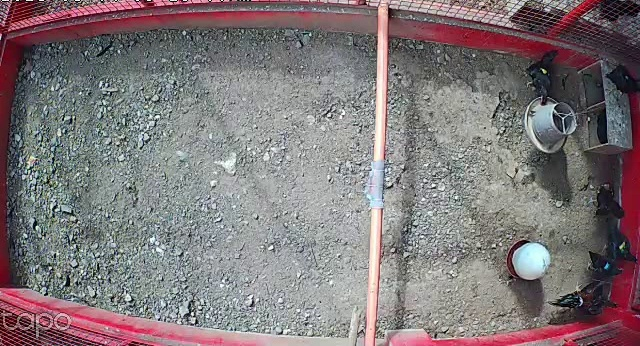Chicken: (523, 46, 561, 107), (587, 180, 629, 219), (603, 225, 640, 266), (584, 248, 625, 282), (605, 60, 640, 99), (540, 67, 547, 73)
Rooster: (549, 276, 622, 318)
Saddle_Color_Blue: (604, 262, 611, 271)
Saddle_Color_YellowGreen: (619, 242, 627, 253)
